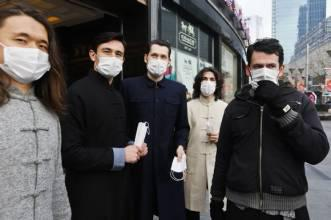OK: (5, 31, 51, 77), (251, 60, 281, 91), (97, 47, 124, 76), (148, 50, 167, 75), (201, 74, 217, 95)
